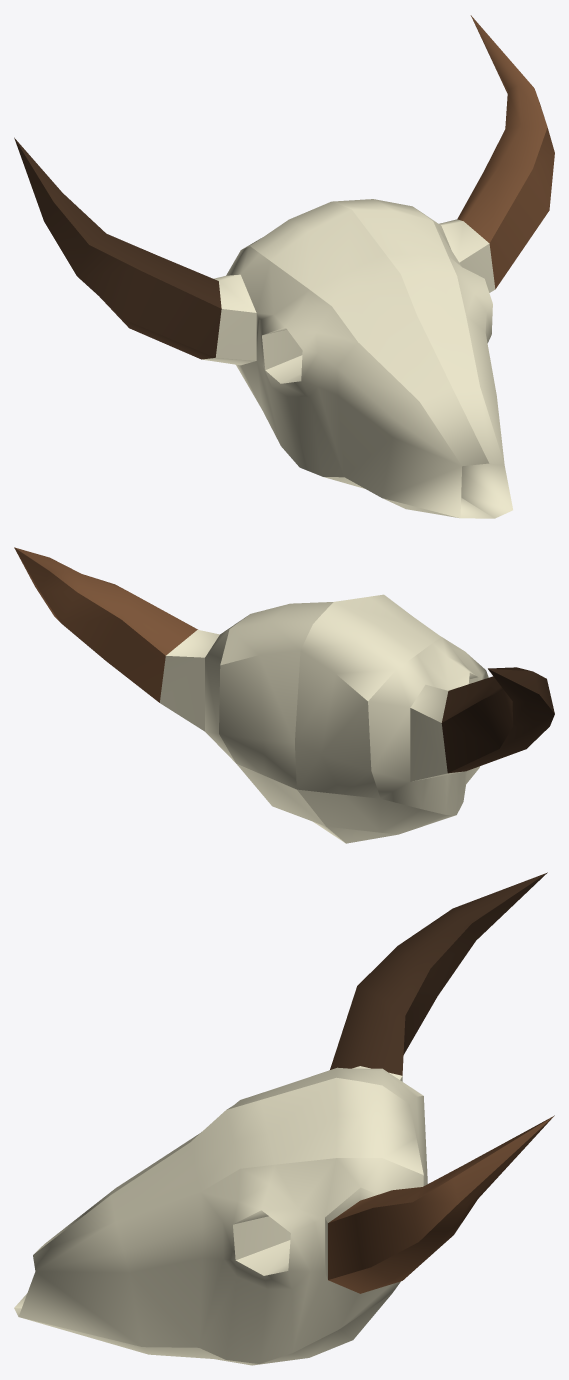
Rendered from skull.obj.
3 renders of one model, top to bottom at view 1: azimuth 30°, elevation 25°; view 2: azimuth 150°, elevation 25°; view 3: azimuth 270°, elevation 25°, orthographic. The views are drawn at different scales.
Size of the model in its own units: 4.36 by 2.66 by 3.65.
